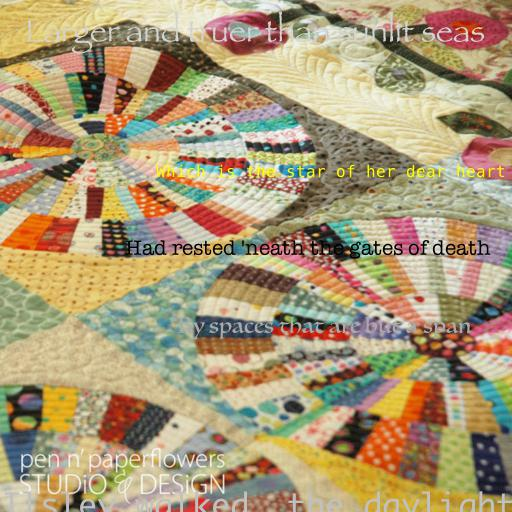American Typewriter: (125, 240, 491, 259)
Luminari: (177, 316, 471, 340)
Menlo: (156, 164, 506, 178)
Monaco: (0, 490, 512, 512)
Papyrus: (25, 11, 485, 54)
